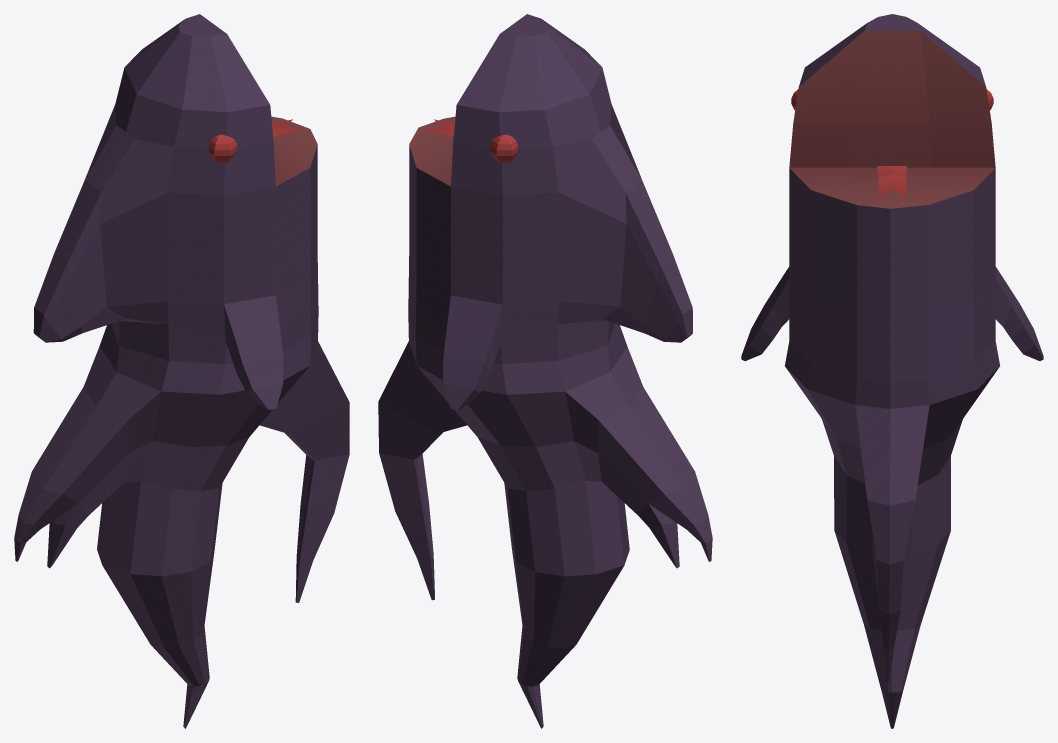
Rendered from Pleasework(1).fbx.
3 views of the same model, side by side, from view 1: azimuth 30°, elevation 25°; view 2: azimuth 150°, elevation 25°; view 3: azimuth 270°, elevation 25° (orthographic). The views are drawn at different scales.
Visible parts, largest first — view 1: Shark top body, Shark Body; view 2: Shark top body, Shark Body; view 3: Shark top body, Shark Body.
Part boxes in pixels (bbox=[...]): Shark top body: bbox=[33, 14, 318, 410]; Shark Body: bbox=[14, 119, 349, 728]; Shark top body: bbox=[408, 14, 692, 410]; Shark Body: bbox=[378, 119, 712, 728]; Shark top body: bbox=[741, 14, 1043, 408]; Shark Body: bbox=[786, 89, 998, 728].
Size of the model in its own units: 399 by 810 by 312.
Materials: 1 (1 with a texture image).
